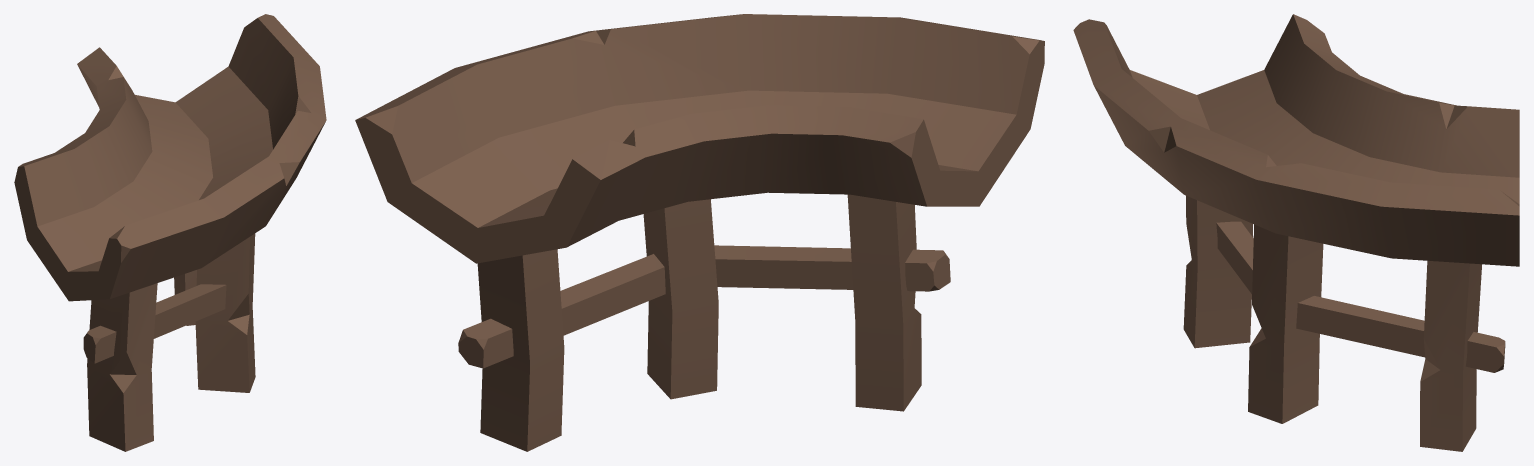
Rendered from Pipe_2.fbx.
The picture shows the model from 3 angles, left to right: view 1: azimuth 30°, elevation 25°; view 2: azimuth 150°, elevation 25°; view 3: azimuth 270°, elevation 25°; orthographic projection. The views are drawn at different scales.
Parts seen in each view (by area): view 1: 2; view 2: 2; view 3: 2.
Boxes of the visible parts, <box> form: 2: <box>14,14,326,451</box>; 2: <box>355,14,1044,451</box>; 2: <box>1073,14,1519,451</box>.
Bounding box in the file's own units: 1.39 × 0.9875 × 1.38.
